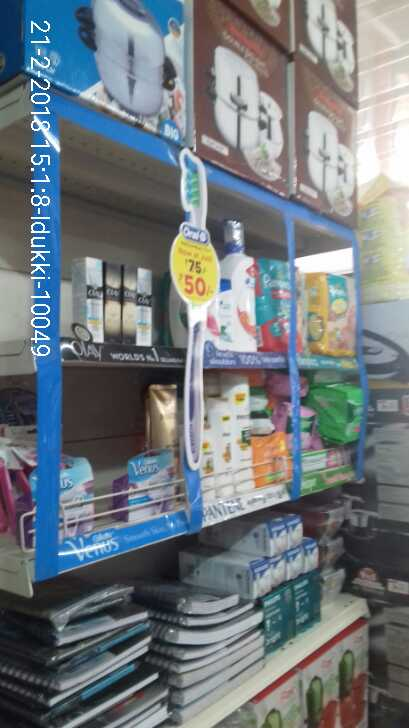venus: (114, 452, 176, 522), (30, 472, 94, 528), (1, 434, 28, 530)
